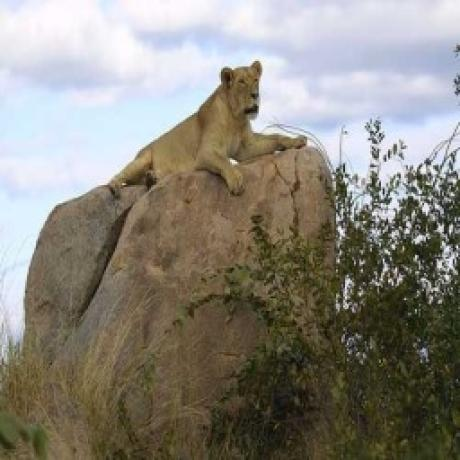Lion: (106, 53, 311, 195)
